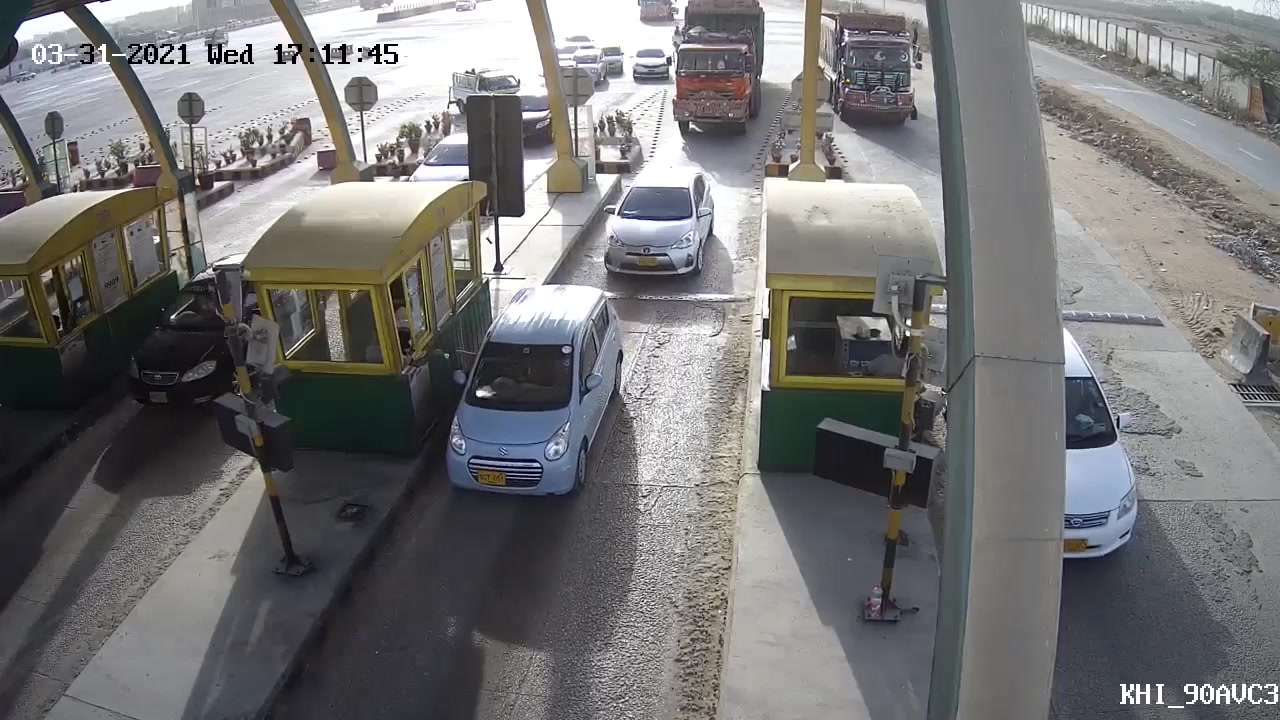F1: (425, 281, 626, 522), (595, 164, 721, 295)
